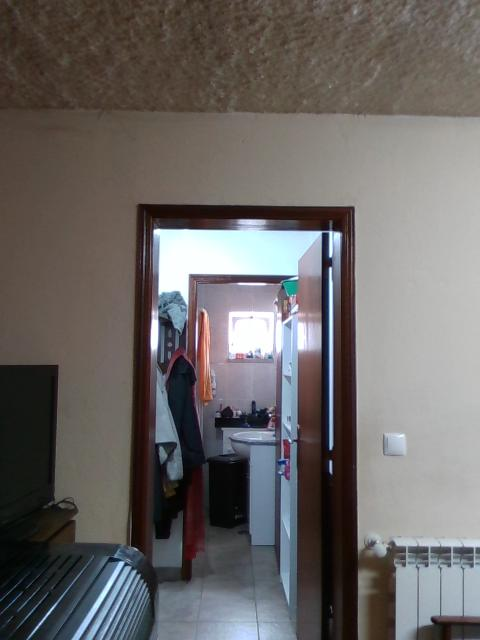open_door: (127, 198, 359, 639)
